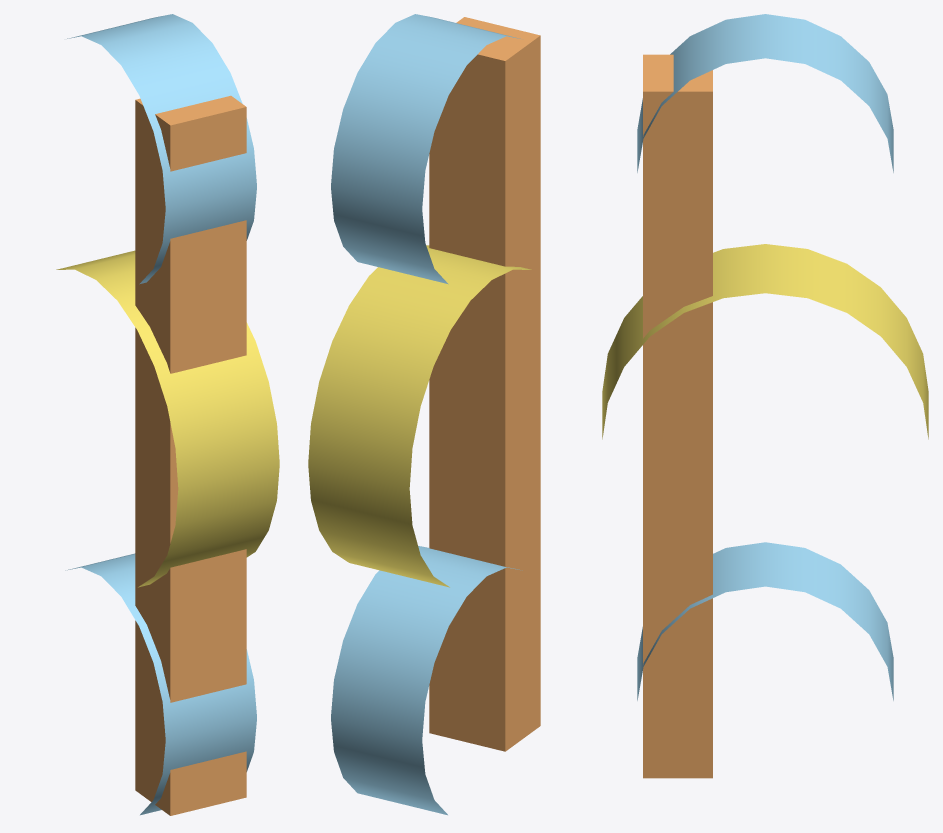
The model's file is epicyclic_gear_trains.glb.
3 renders of one model, left to right at view 1: azimuth 30°, elevation 25°; view 2: azimuth 150°, elevation 25°; view 3: azimuth 270°, elevation 25°, orthographic.
Parts seen in each view (by area): view 1: PlanetCarrierRotatingArm, SunCentralSpurGear, PlanetarySatelliteGear1, PlanetarySatelliteGear2; view 2: PlanetCarrierRotatingArm, SunCentralSpurGear, PlanetarySatelliteGear1, PlanetarySatelliteGear2; view 3: PlanetCarrierRotatingArm, SunCentralSpurGear, PlanetarySatelliteGear1, PlanetarySatelliteGear2.
Boxes of the visible parts, box(x1,y1,x2,y2) form: PlanetCarrierRotatingArm: box(135, 95, 246, 815); SunCentralSpurGear: box(56, 250, 279, 587); PlanetarySatelliteGear1: box(67, 14, 256, 284); PlanetarySatelliteGear2: box(65, 553, 256, 815); PlanetCarrierRotatingArm: box(429, 17, 540, 751); SunCentralSpurGear: box(308, 245, 531, 587); PlanetarySatelliteGear1: box(331, 14, 520, 284); PlanetarySatelliteGear2: box(331, 546, 522, 815); PlanetCarrierRotatingArm: box(643, 54, 712, 778); SunCentralSpurGear: box(602, 244, 928, 439); PlanetarySatelliteGear1: box(637, 14, 893, 172); PlanetarySatelliteGear2: box(637, 542, 893, 700).
Bounding box in the file's own units: 0.2 × 1.44 × 0.56.
